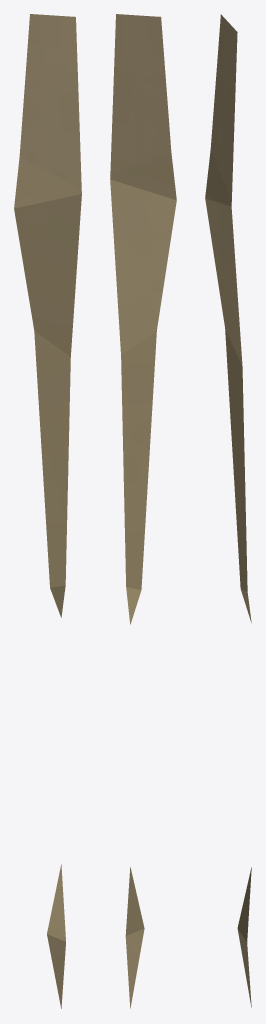
The picture shows the model from 3 angles, left to right: view 1: azimuth 30°, elevation 25°; view 2: azimuth 210°, elevation 25°; view 3: azimuth 330°, elevation 25°; orthographic projection.
Size of the model in its own units: 0.0322 by 0.6514 by 0.0242.
Materials: 1 (1 with a texture image).
